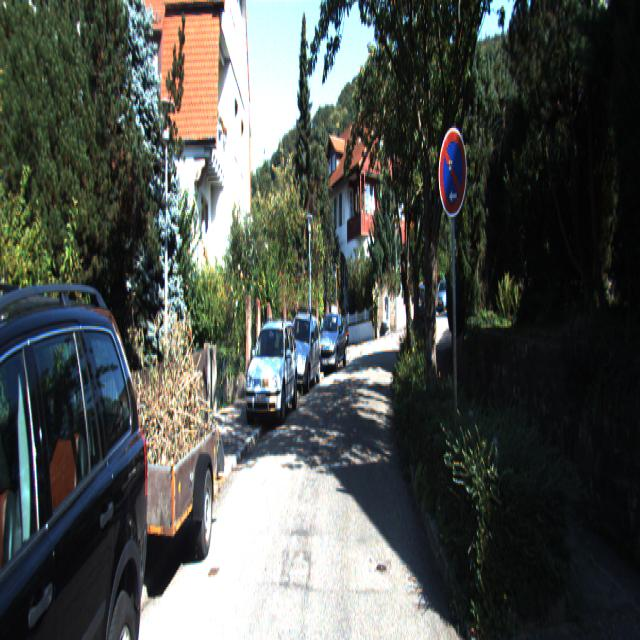Car: (0, 242, 154, 638), (95, 401, 228, 599), (244, 313, 298, 429), (283, 307, 321, 394), (316, 309, 346, 374), (414, 280, 436, 322)
